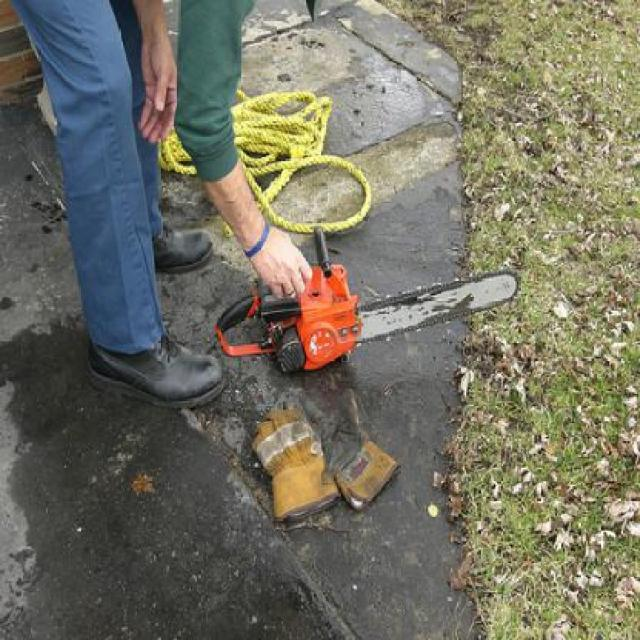Chainsaw: (217, 227, 518, 376)
